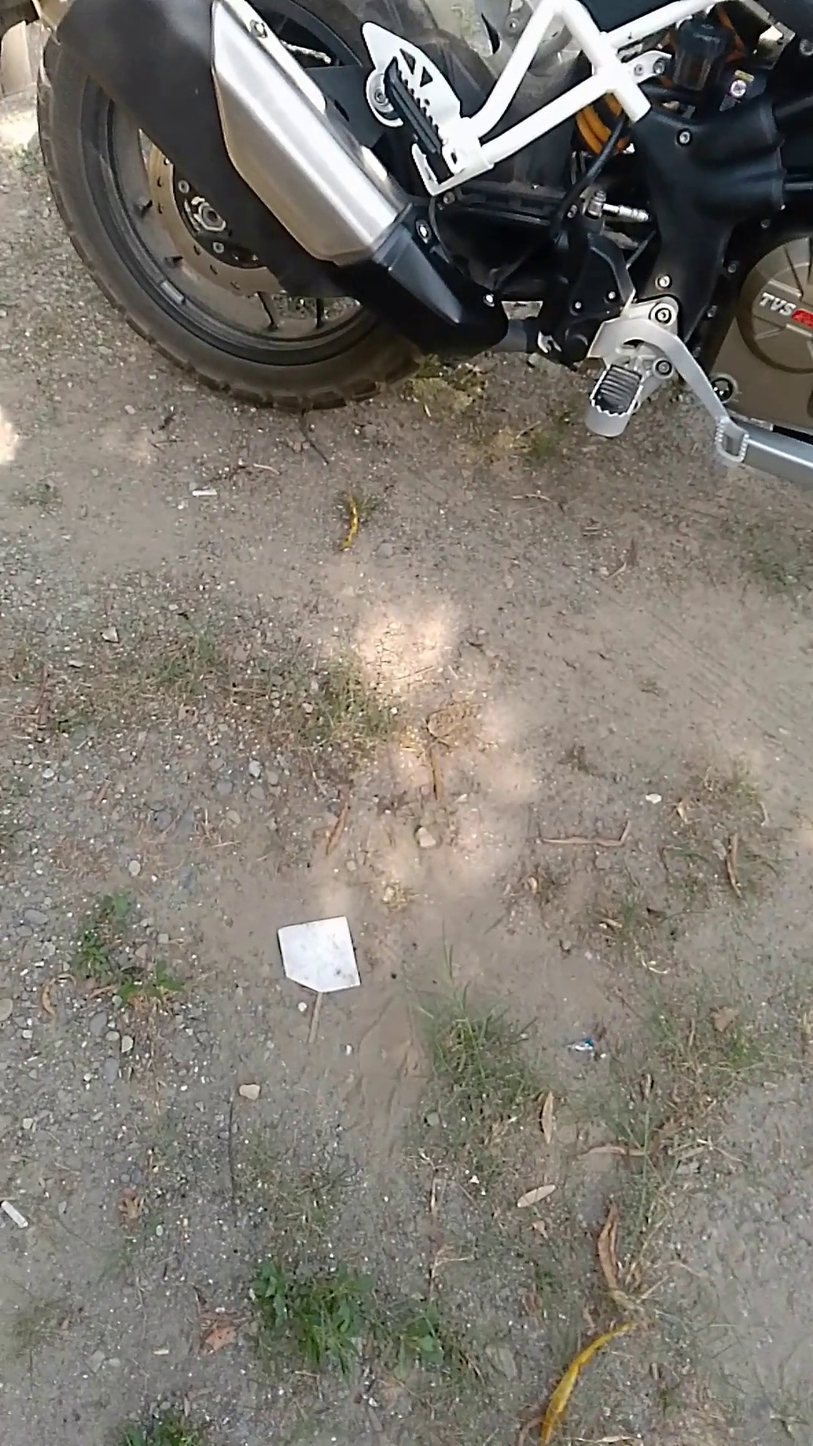engine: (697, 198, 813, 473)
oil_marker: (706, 366, 749, 411)
